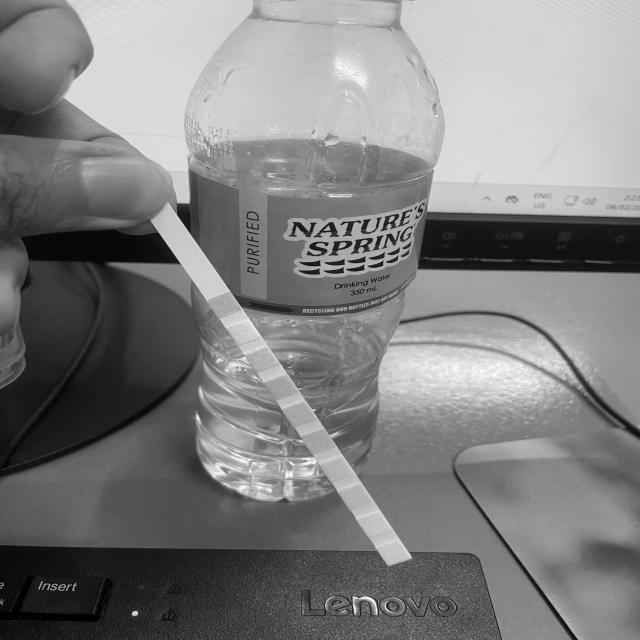Bilirubin: (235, 324, 253, 340)
Blood: (290, 406, 308, 422)
Glucose: (217, 296, 233, 313)
Ketone: (253, 352, 272, 368)
Leukocytes: (384, 545, 404, 561)
Nitrite: (364, 516, 384, 532)
Protein: (327, 461, 348, 477)
SpGravity: (270, 379, 292, 395)
Urobilinogen: (344, 488, 366, 505)
background: (0, 0, 640, 640)
pH: (306, 434, 330, 448)
strip: (151, 207, 413, 567)
